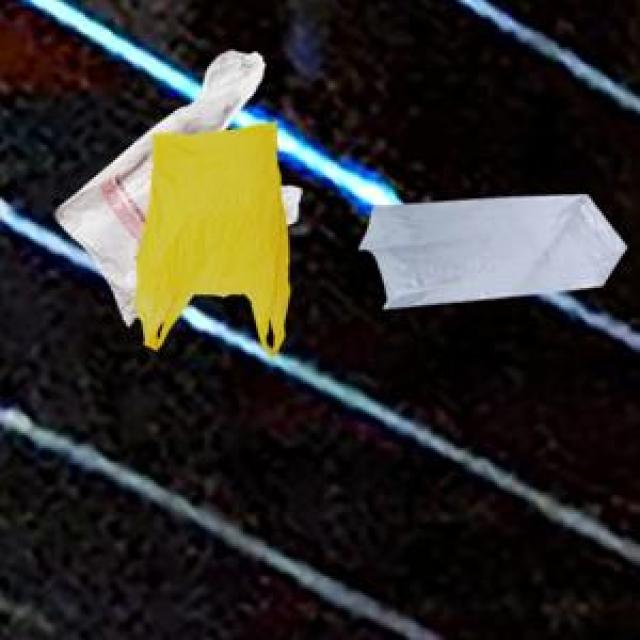plastic: (54, 35, 329, 368)
